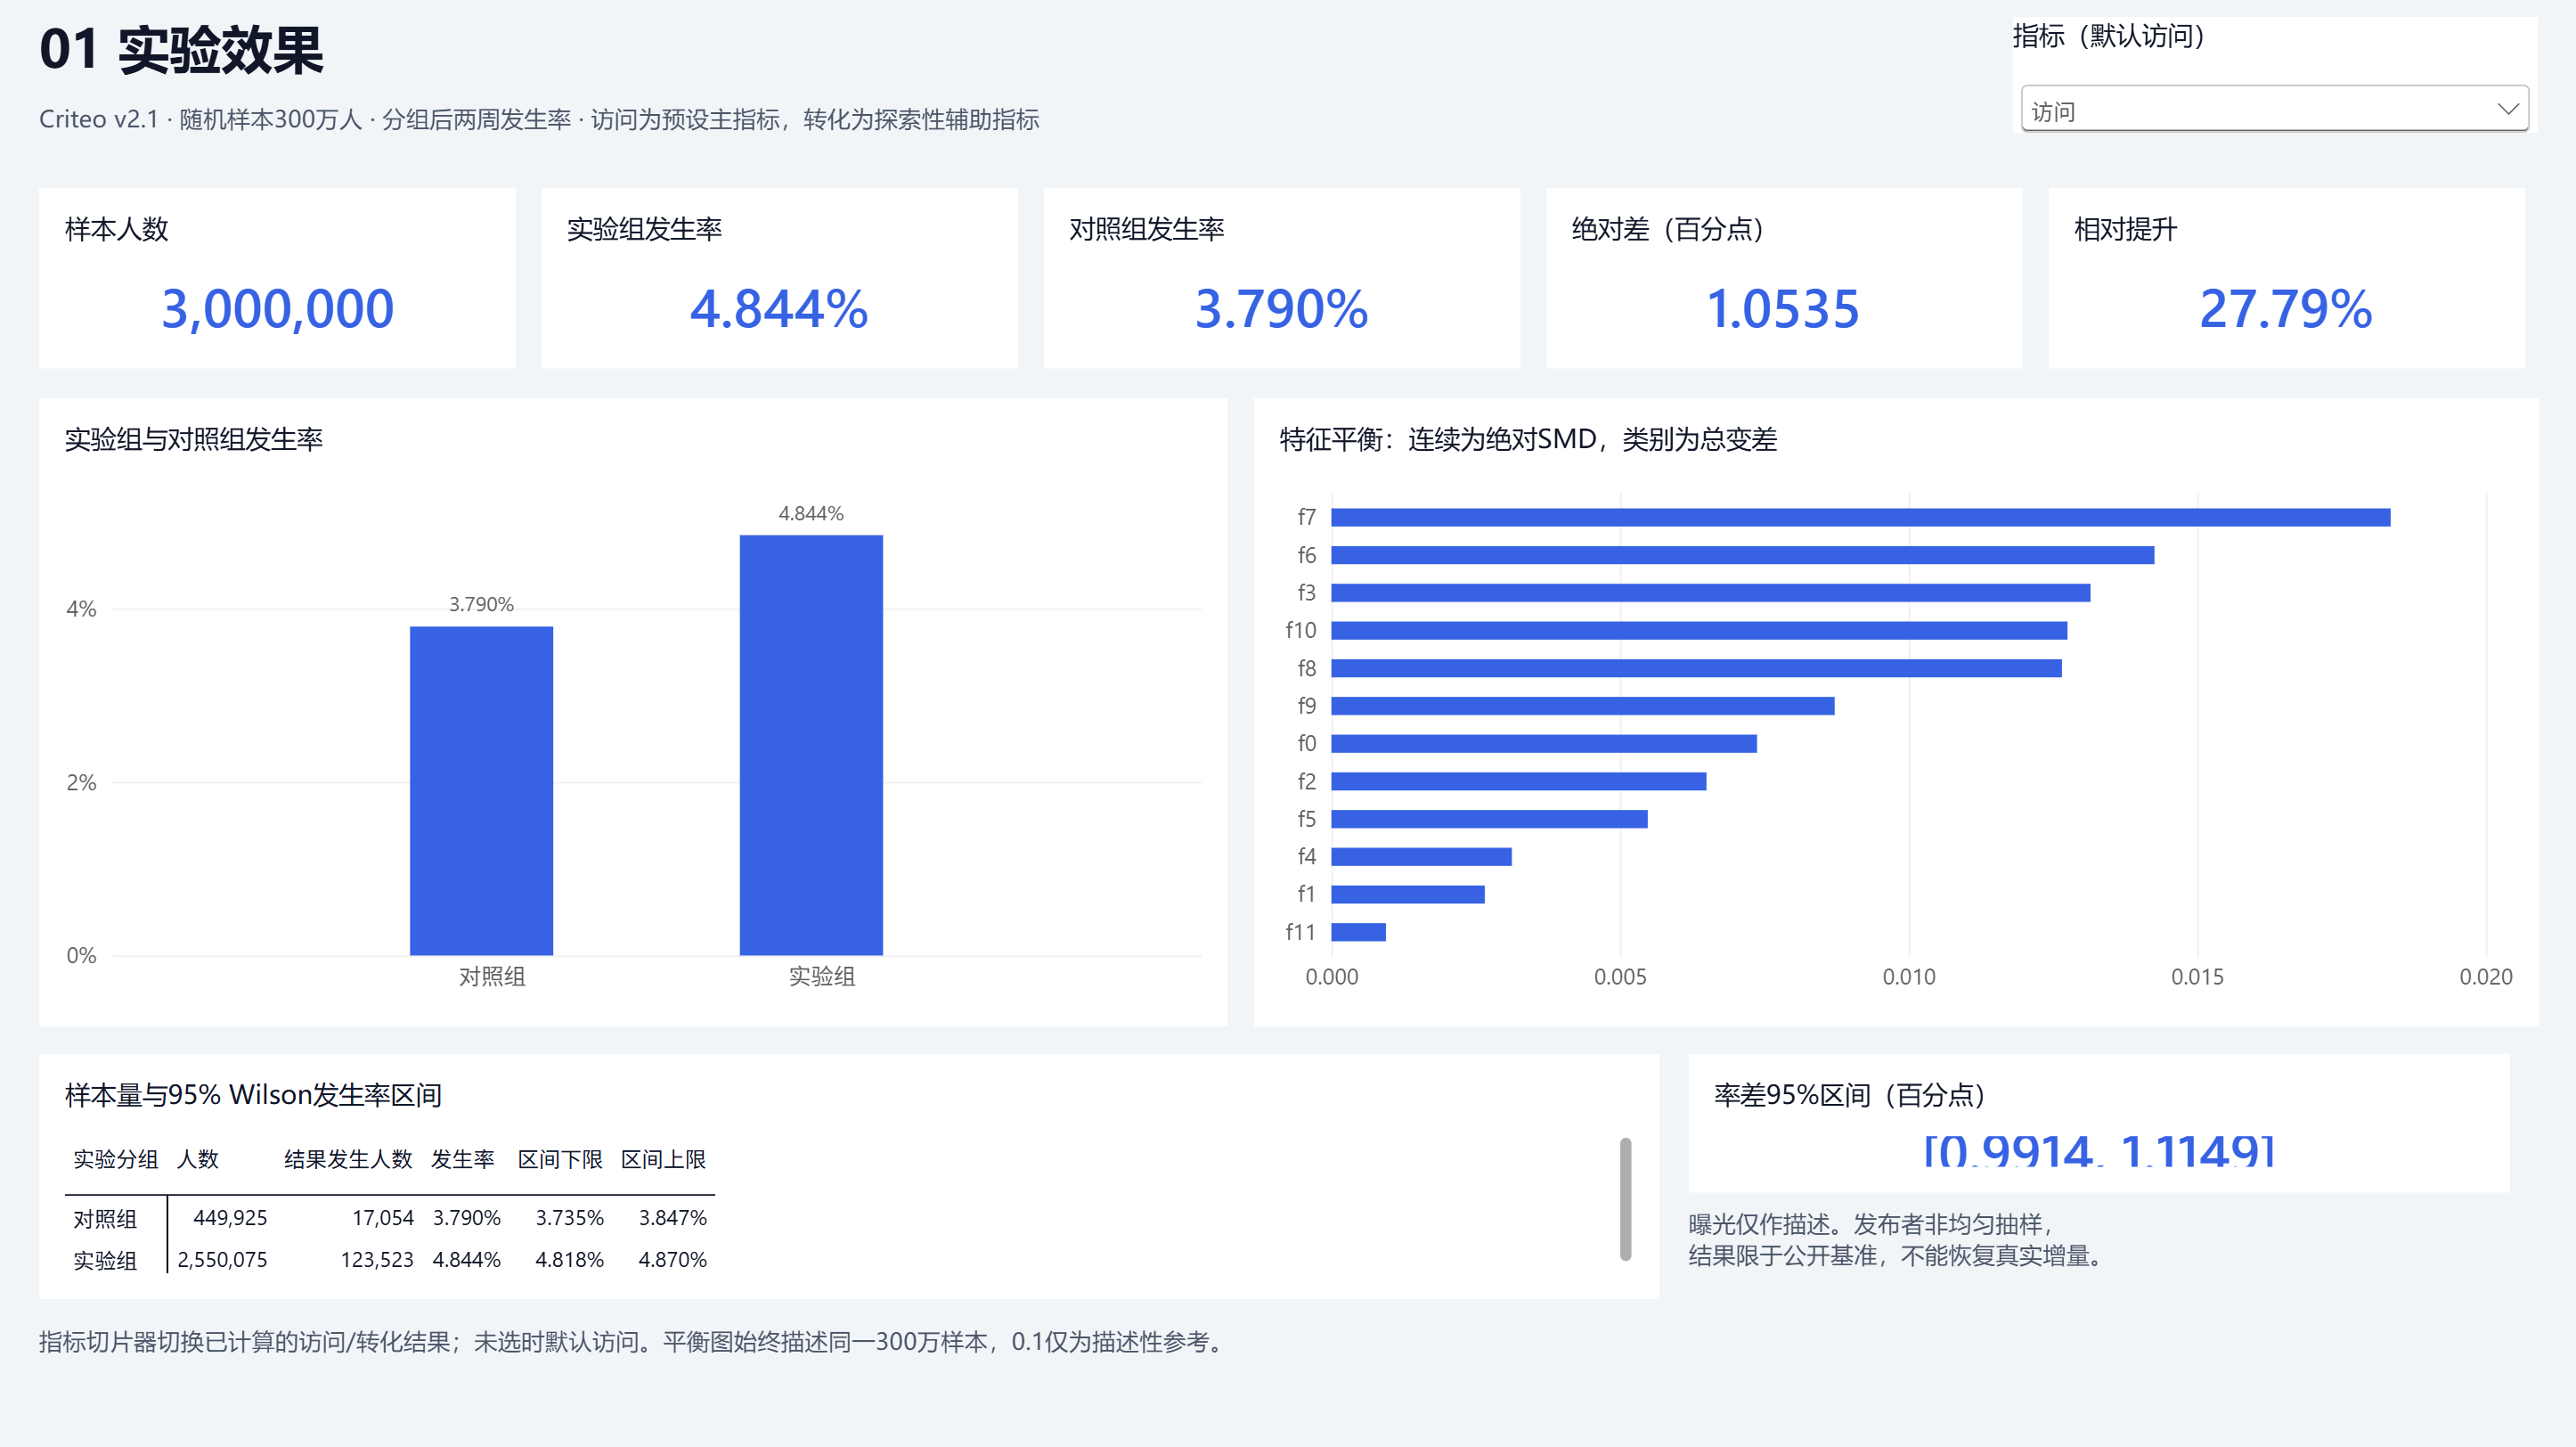

This screenshot's page, from the dashboard's own definition file:
{"tool":"powerbi","page":{"name":"01 实验效果","canvas":[1600,900],"ordinal":0},"visuals":[{"type":"textbox","box":[24,8,1180,56],"z":0},{"type":"slicer","title":"指标（默认访问）","fields":{"Values":["dim_outcome.outcome_label"]},"box":[1250,12,326,72],"z":0},{"type":"textbox","box":[24,64,1180,44],"z":0},{"type":"card","title":"样本人数","fields":{"Values":["Metrics.Sample N"]},"box":[24,118,296,112],"z":0},{"type":"card","title":"实验组发生率","fields":{"Values":["Metrics.Treatment Rate"]},"box":[336,118,296,112],"z":0},{"type":"card","title":"对照组发生率","fields":{"Values":["Metrics.Control Rate"]},"box":[648,118,296,112],"z":0},{"type":"card","title":"绝对差（百分点）","fields":{"Values":["Metrics.ATE Points"]},"box":[960,118,296,112],"z":0},{"type":"card","title":"相对提升","fields":{"Values":["Metrics.Relative Lift"]},"box":[1272,118,296,112],"z":0},{"type":"clusteredColumnChart","title":"实验组与对照组发生率","fields":{"Category":["experiment_groups.group_label"],"Y":["Metrics.Group Rate"]},"box":[24,248,738,390],"z":0},{"type":"clusteredBarChart","title":"特征平衡：连续为绝对SMD，类别为总变差","fields":{"Category":["feature_balance.feature"],"Y":["Metrics.Balance Difference"]},"box":[778,248,798,390],"z":0},{"type":"pivotTable","title":"样本量与95% Wilson发生率区间","fields":{"Rows":["experiment_groups.group_label"],"Values":["Metrics.Group N","Metrics.Group Positive","Metrics.Group Rate","Metrics.Group Lower","Metrics.Group Upper"]},"box":[24,654,1006,152],"z":0},{"type":"card","title":"率差95%区间（百分点）","fields":{"Values":["Metrics.ATE Interval"]},"box":[1050,654,510,86],"z":0},{"type":"textbox","box":[1050,750,510,58],"z":0},{"type":"textbox","box":[24,824,1552,52],"z":0}]}

Visuals, with their boxes in screenshot pixels (x1, y1, x2, y2), scaled from the page's 1600x900 canvas onto the 2576x1447 screenshot:
textbox: box(38, 12, 1938, 102)
"指标（默认访问）" slicer: box(2012, 20, 2538, 135)
textbox: box(38, 102, 1938, 174)
"样本人数" card: box(38, 190, 515, 370)
"实验组发生率" card: box(541, 190, 1017, 370)
"对照组发生率" card: box(1043, 190, 1520, 370)
"绝对差（百分点）" card: box(1545, 190, 2022, 370)
"相对提升" card: box(2048, 190, 2524, 370)
"实验组与对照组发生率" clusteredColumnChart: box(38, 399, 1227, 1026)
"特征平衡：连续为绝对SMD，类别为总变差" clusteredBarChart: box(1252, 399, 2538, 1026)
"样本量与95% Wilson发生率区间" pivotTable: box(38, 1051, 1659, 1296)
"率差95%区间（百分点）" card: box(1691, 1051, 2512, 1189)
textbox: box(1691, 1206, 2512, 1299)
textbox: box(38, 1325, 2538, 1409)
